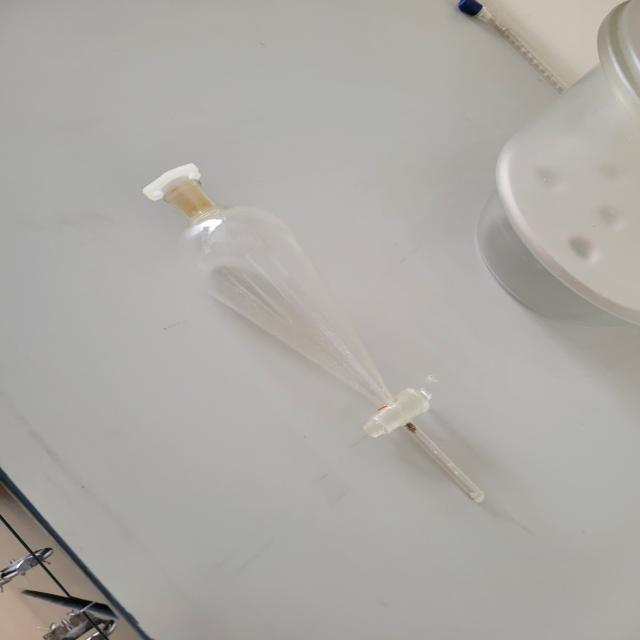Separating_Funnel: (112, 138, 512, 535)
